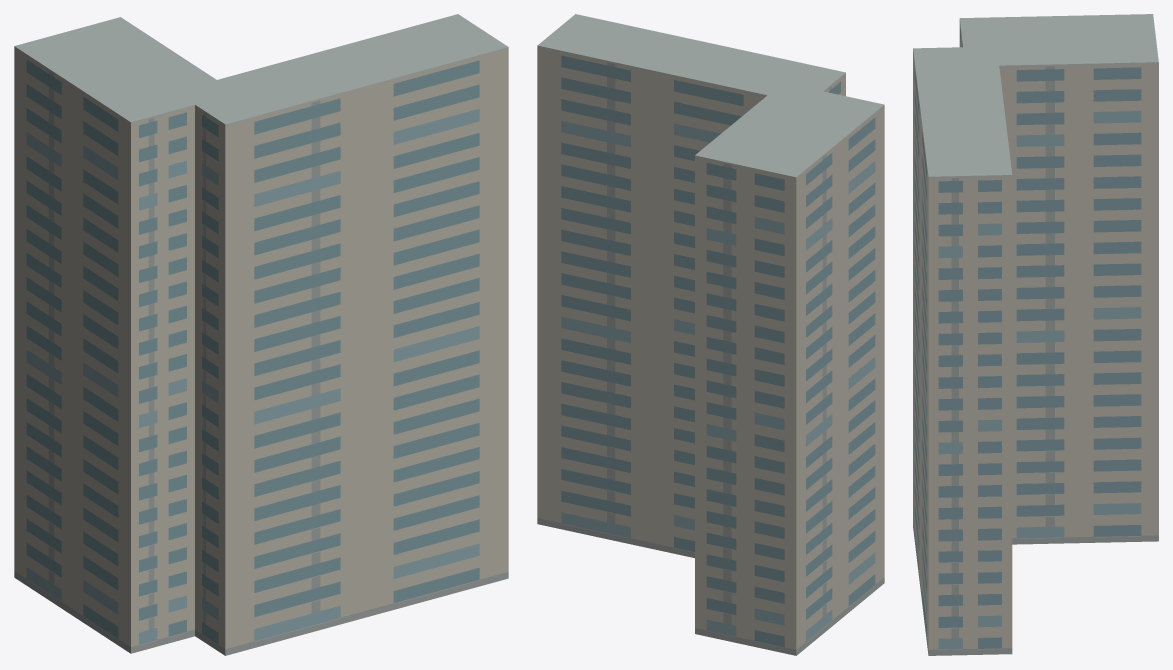
The model's file is residential-aed64626-b84f-450f-b7f6-fa6e1d346591.glb.
3 renders of one model, left to right at view 1: azimuth 30°, elevation 25°; view 2: azimuth 150°, elevation 25°; view 3: azimuth 270°, elevation 25°, orthographic. The views are drawn at different scales.
Parts seen in each view (by area): view 1: residential-aed64626-b84f-450f-b7f6-fa6e1d346591.tmp; view 2: residential-aed64626-b84f-450f-b7f6-fa6e1d346591.tmp; view 3: residential-aed64626-b84f-450f-b7f6-fa6e1d346591.tmp.
Part boxes in pixels (box(x1,y1,x2,y2)): residential-aed64626-b84f-450f-b7f6-fa6e1d346591.tmp: box(14, 14, 508, 655); residential-aed64626-b84f-450f-b7f6-fa6e1d346591.tmp: box(537, 14, 884, 655); residential-aed64626-b84f-450f-b7f6-fa6e1d346591.tmp: box(913, 14, 1158, 655).
Bounding box in the file's own units: 48.8 × 67 × 31.15.
